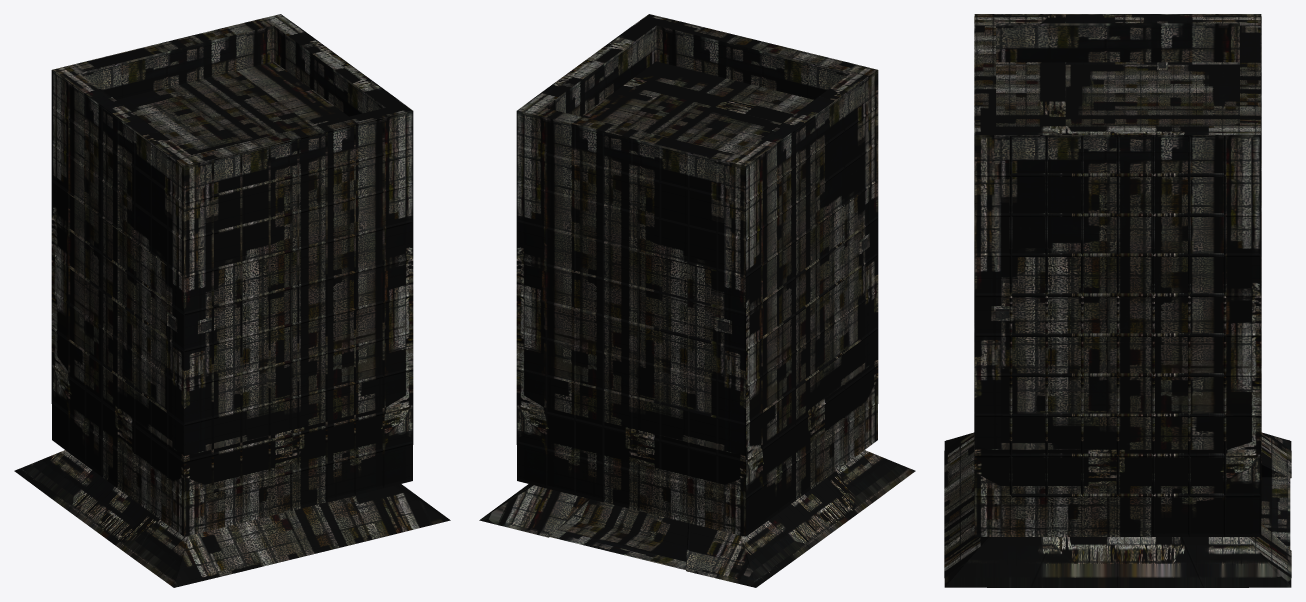
Rendered from ShortBuilding.fbx.
3 views of the same model, side by side, from view 1: azimuth 30°, elevation 25°; view 2: azimuth 150°, elevation 25°; view 3: azimuth 270°, elevation 25° (orthographic). The views are drawn at different scales.
Visible parts, largest first — view 1: Cube.002; view 2: Cube.002; view 3: Cube.002.
Part boxes in pixels (box(x1,y1,x2,y2)): Cube.002: box(14, 14, 450, 587); Cube.002: box(479, 14, 915, 587); Cube.002: box(944, 14, 1291, 587).
Size of the model in its own units: 149 by 208 by 149.
Materials: 1 (1 with a texture image).
